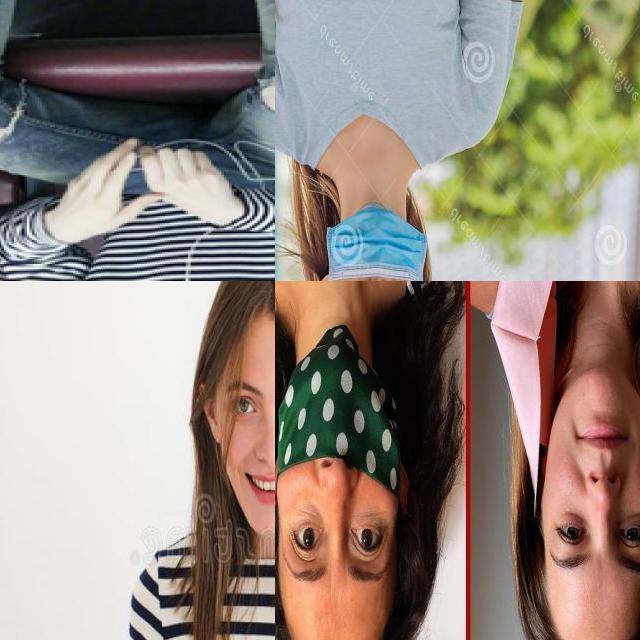hairnet: (279, 338, 396, 506)
